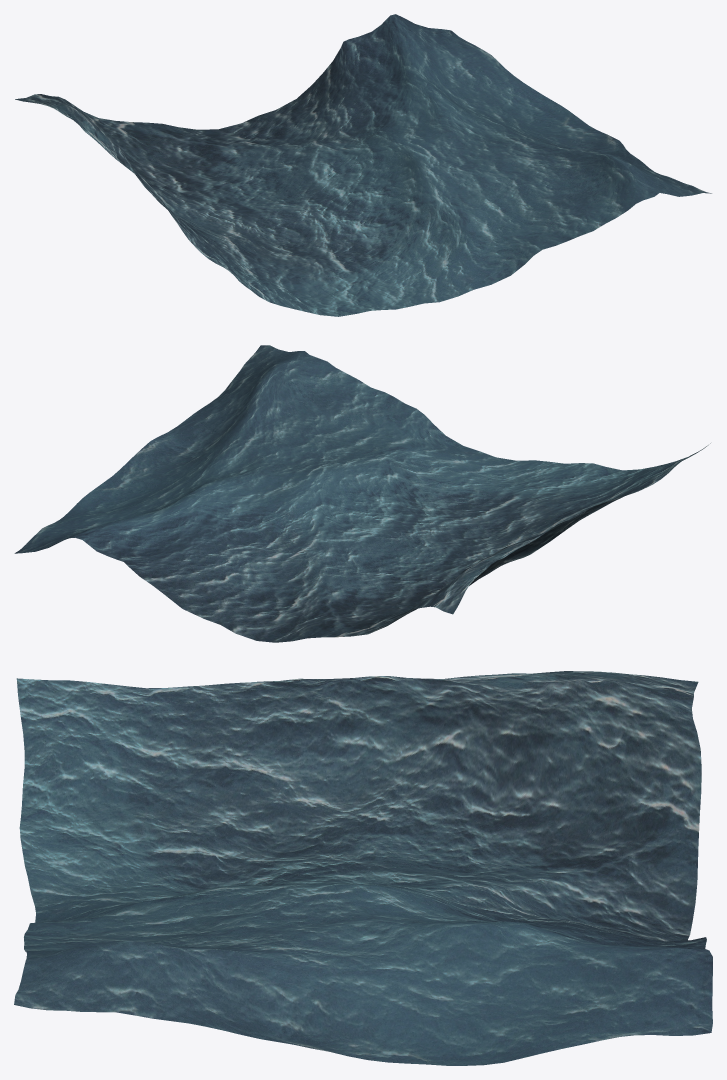
The model's file is ocean_noKeys.glb.
3 views of the same model, one above another, from view 1: azimuth 30°, elevation 25°; view 2: azimuth 150°, elevation 25°; view 3: azimuth 270°, elevation 25° (orthographic). The views are drawn at different scales.
Parts seen in each view (by area): view 1: OceanPlane.baked.small.noKeys; view 2: OceanPlane.baked.small.noKeys; view 3: OceanPlane.baked.small.noKeys.
Part boxes in pixels (<box>): OceanPlane.baked.small.noKeys: <box>15,14,711,316</box>; OceanPlane.baked.small.noKeys: <box>14,345,710,642</box>; OceanPlane.baked.small.noKeys: <box>14,671,712,1065</box>.
Size of the model in its own units: 3.24 by 0.5885 by 3.03.
Materials: 1 (1 with a texture image).
